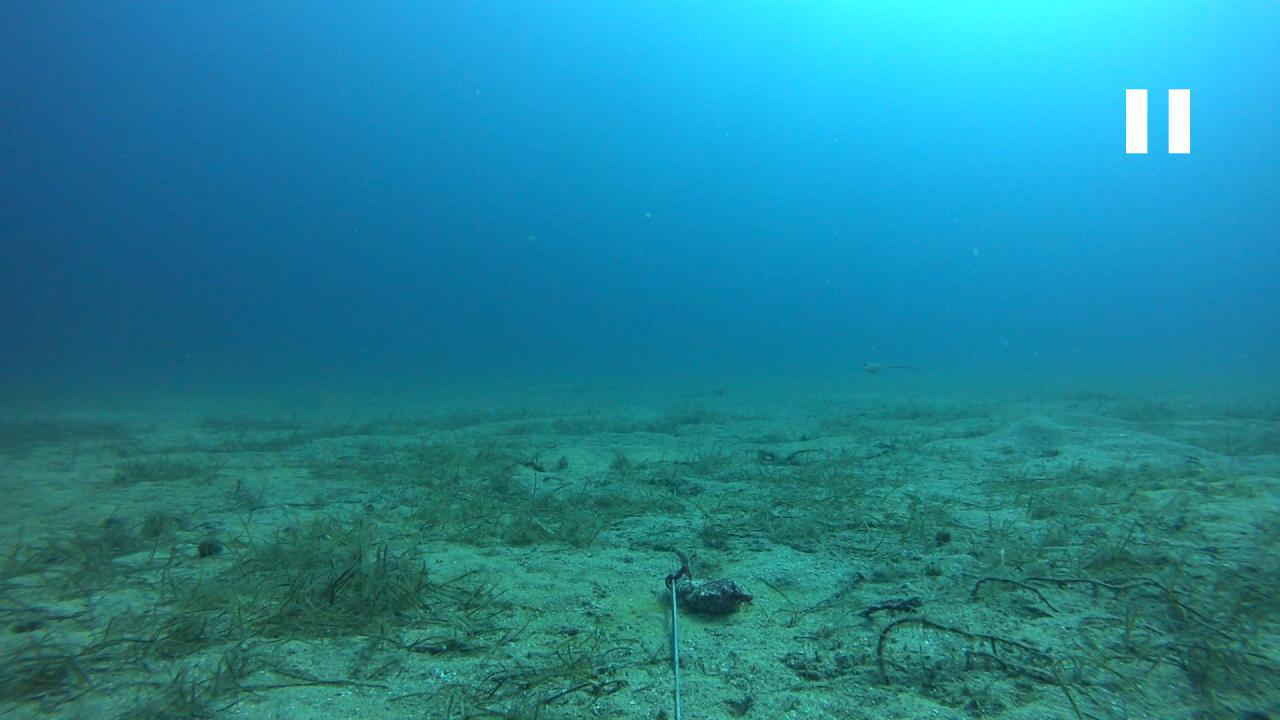dasyatis: (858, 359, 922, 373)
